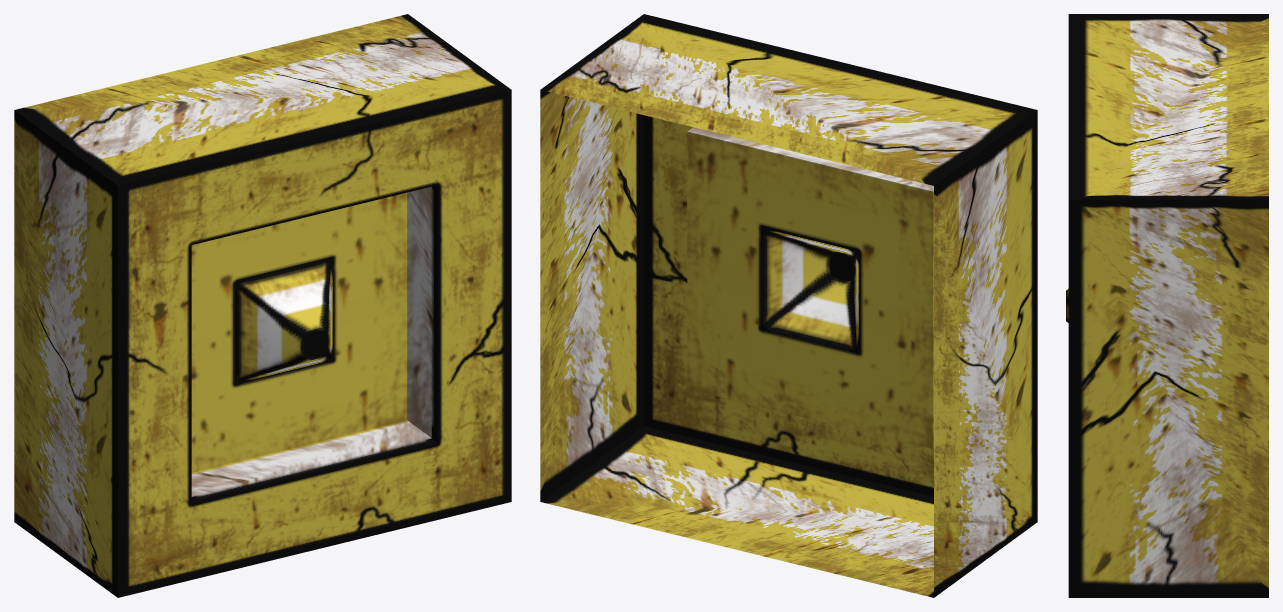
The model's file is laserbase.fbx.
3 renders of one model, left to right at view 1: azimuth 30°, elevation 25°; view 2: azimuth 150°, elevation 25°; view 3: azimuth 270°, elevation 25°, orthographic. The views are drawn at different scales.
Visible parts, largest first — view 1: pCube1; view 2: pCube1; view 3: pCube1.
Part boxes in pixels (bbox=[...]): pCube1: bbox=[14, 14, 511, 597]; pCube1: bbox=[540, 14, 1037, 597]; pCube1: bbox=[1066, 14, 1268, 597].
Size of the model in its own units: 1 by 1 by 0.4618.
Materials: 1 (1 with a texture image).
